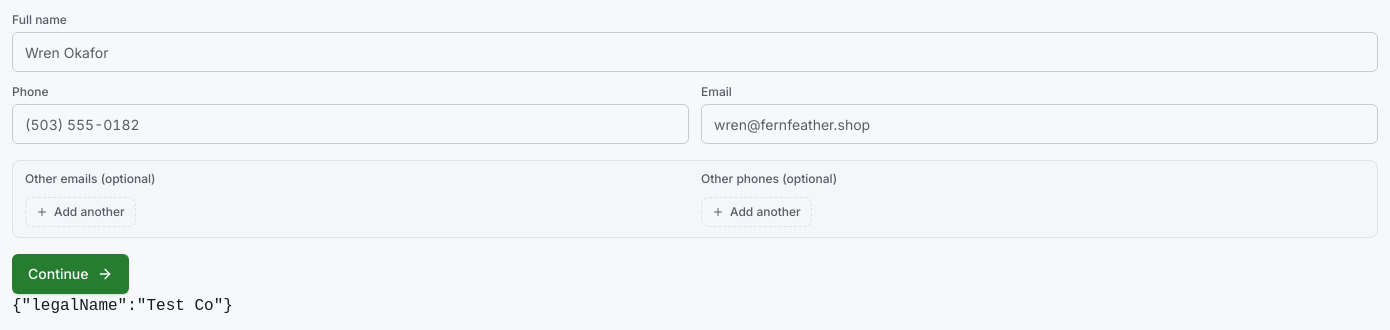
Test: phone auto-format (I1, 00:30:14) › the main-contact phone field masks while typing and commits digits
The width and height of the screenshot is (1390, 330).
Step 1. Type "5035550182" into the field named "Phone" → point(350, 124), box [12, 104, 689, 144]
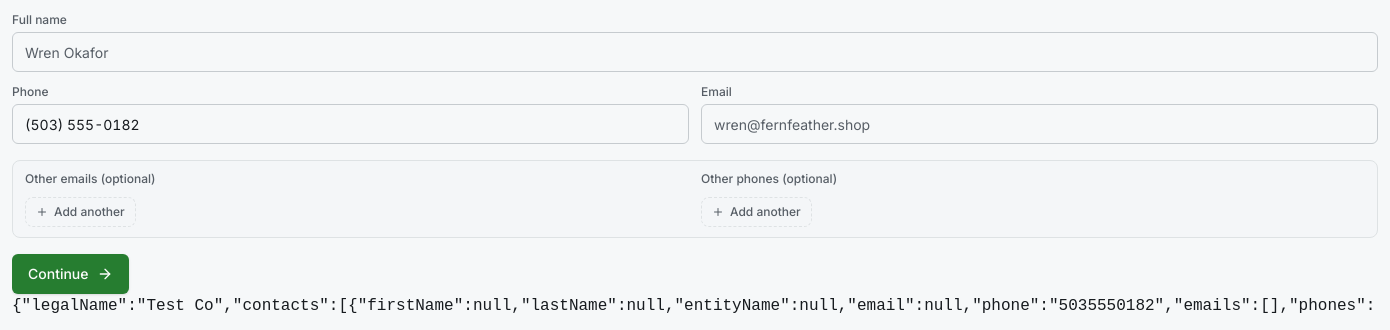
Result: the field named "Phone" holds "(503) 555-0182" at [12, 104, 689, 144]
